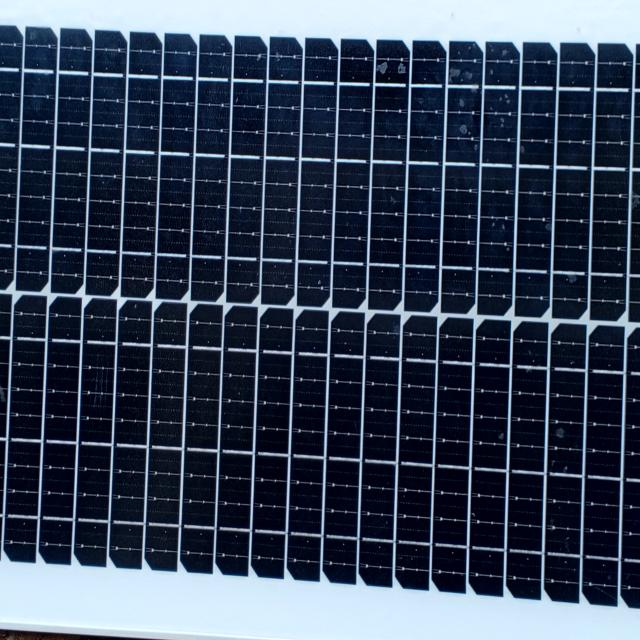Clean: (4, 9, 640, 625)
